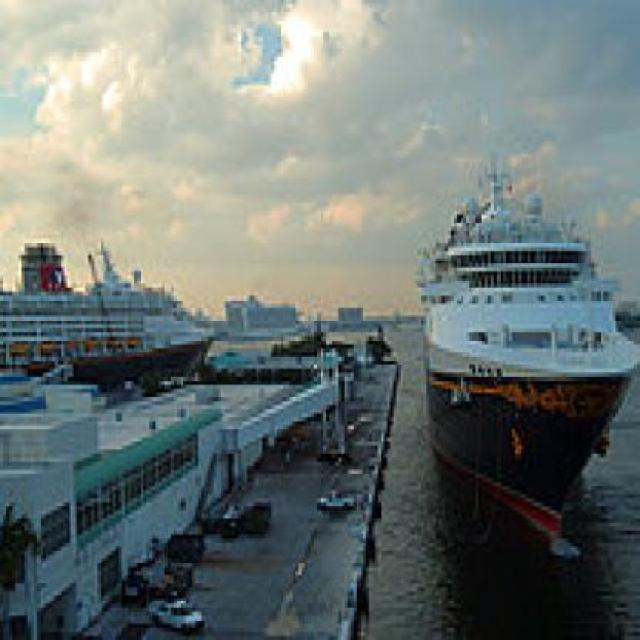cruise: (400, 138, 639, 544)
